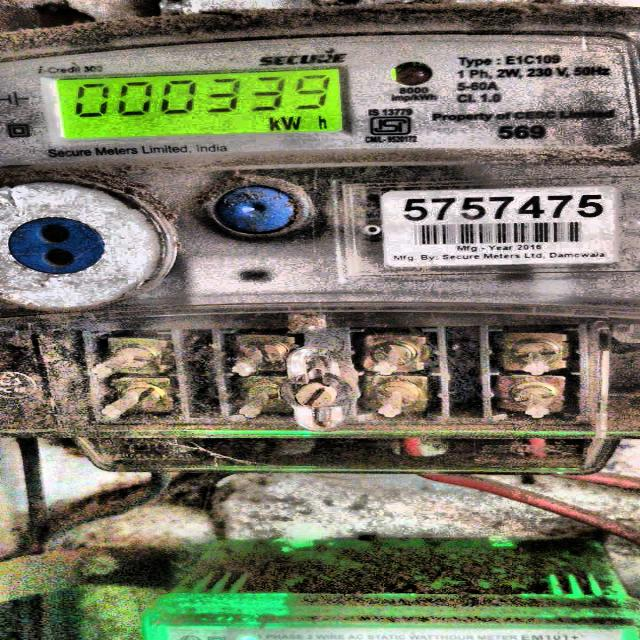Digital: (0, 31, 640, 468)
Reading: (67, 74, 340, 115)
Serial No.: (403, 193, 605, 222)
